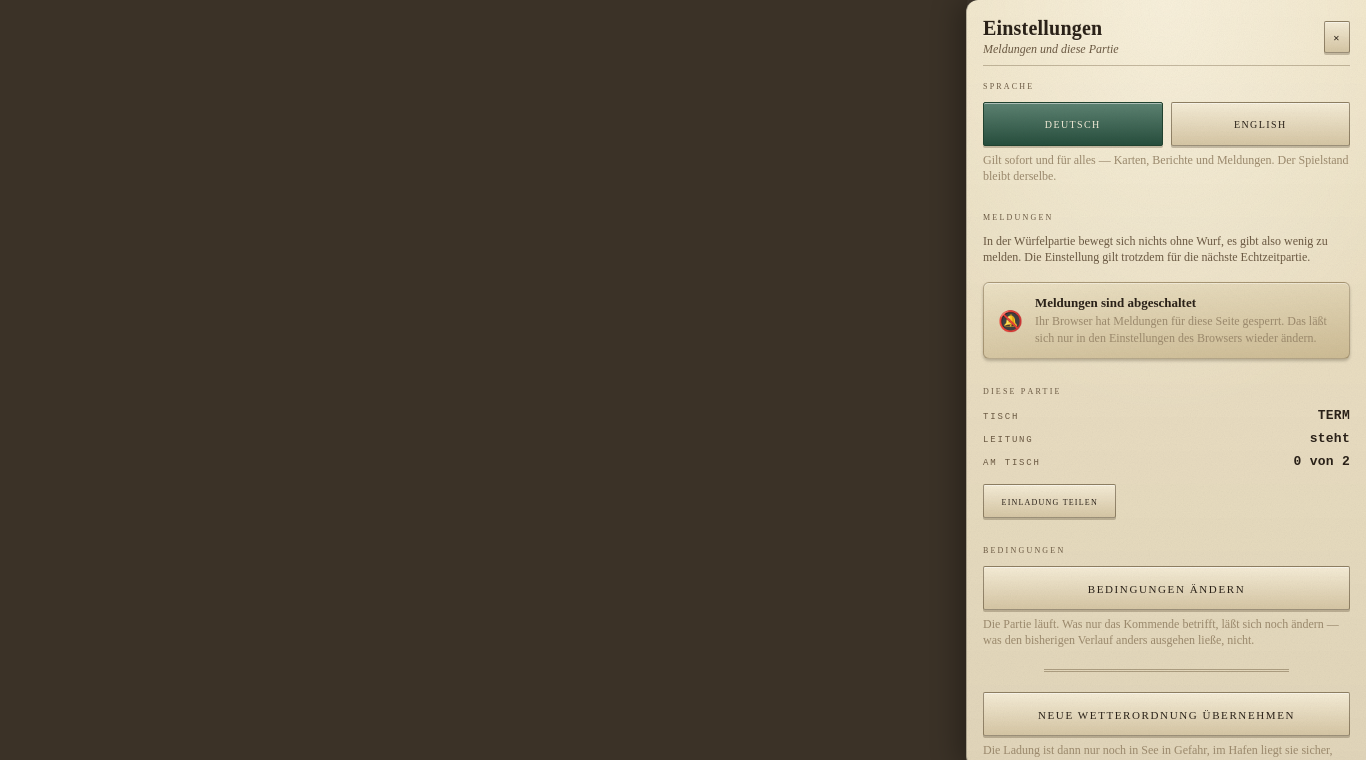
Test: lets the host reach the terms once the table has sailed
This screenshot has width=1366, height=760.
expect the text "nur das Kommende betrifft" is shown: met, box [983,616,1339,647]
Click the button "Bedingungen ändern".
click(1166, 588)  # box [983,566,1350,610]
(page scrolled)
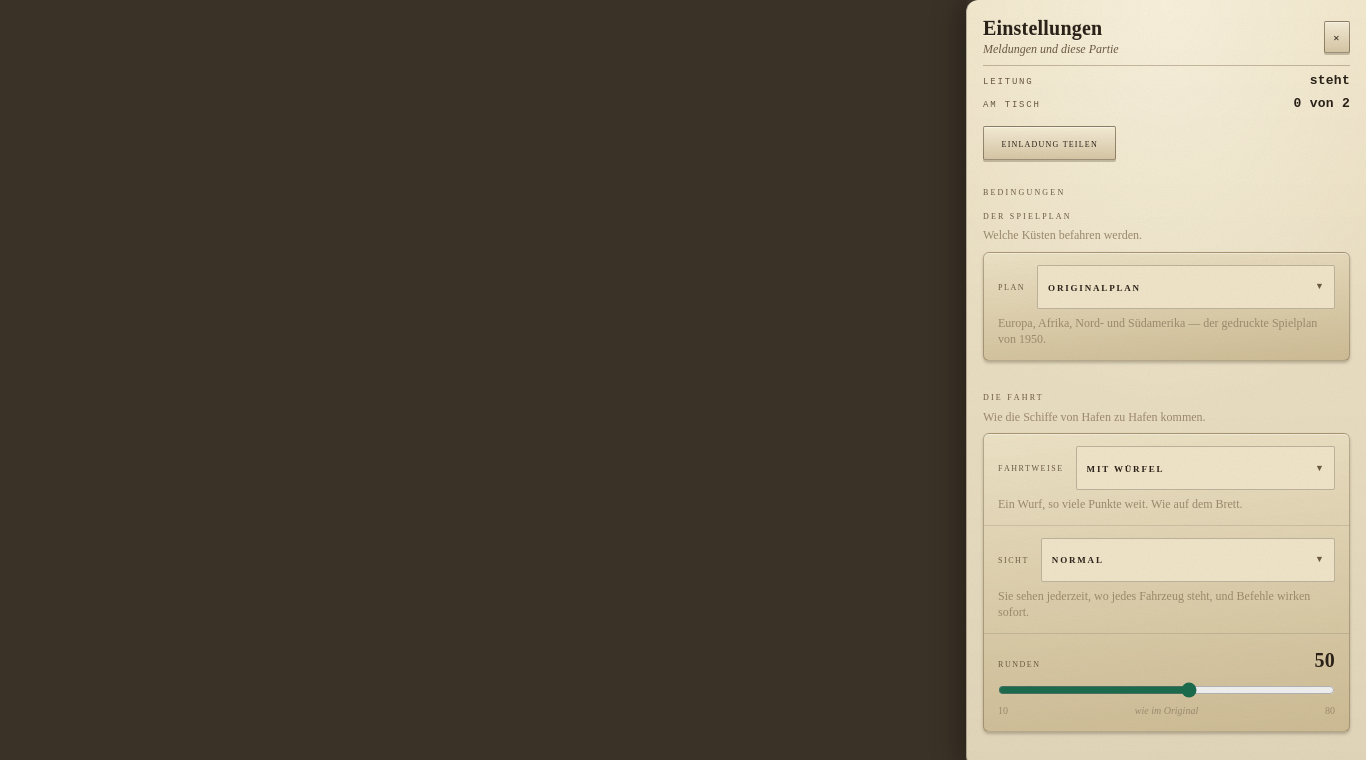
expect the text "Wie die Schiffe von Hafen zu Hafen kommen." is shown: met, box [983,410,1206,424]
